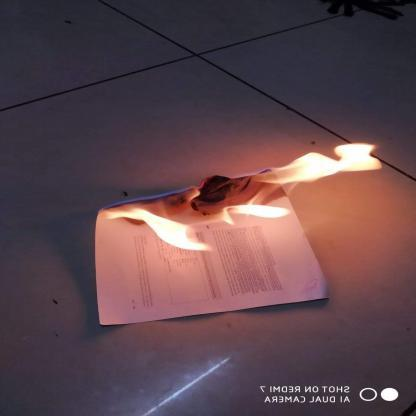fire: (100, 134, 390, 258)
